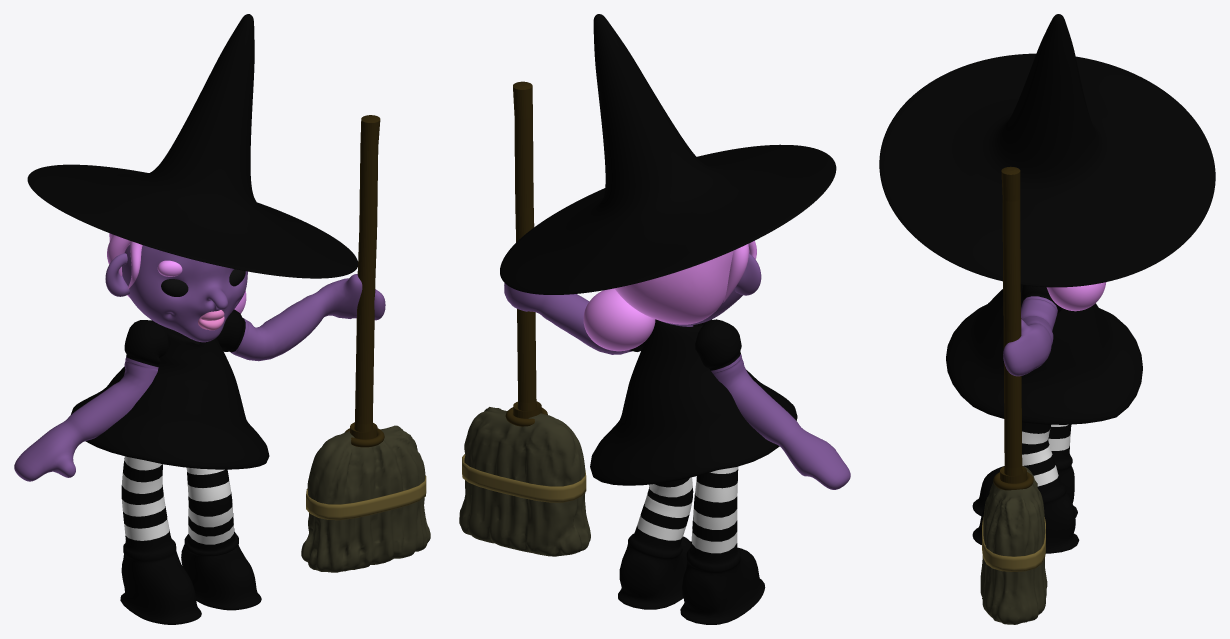
File: witch.glb
The picture shows the model from 3 angles, left to right: view 1: azimuth 30°, elevation 25°; view 2: azimuth 150°, elevation 25°; view 3: azimuth 270°, elevation 25°; orthographic projection. The views are drawn at different scales.
Visible parts, largest first — view 1: HEAD, legs, dress, arms, broom solid bristle, broomstick, broom band; view 2: HEAD, dress, legs, broom solid bristle, arms, broomstick, broom band; view 3: HEAD, dress, broom solid bristle, broomstick, legs, arms, broom band.
Boxes of the visible parts, x1=… form: HEAD: x1=27, y1=14, x2=358, y2=342; legs: x1=120, y1=456, x2=261, y2=624; dress: x1=71, y1=326, x2=269, y2=469; arms: x1=14, y1=274, x2=385, y2=481; broom solid bristle: x1=301, y1=425, x2=430, y2=572; broomstick: x1=344, y1=115, x2=384, y2=447; broom band: x1=306, y1=475, x2=426, y2=520; HEAD: x1=500, y1=14, x2=836, y2=351; dress: x1=590, y1=319, x2=797, y2=485; legs: x1=618, y1=466, x2=765, y2=624; broom solid bristle: x1=459, y1=407, x2=590, y2=556; arms: x1=504, y1=283, x2=850, y2=489; broomstick: x1=505, y1=81, x2=547, y2=426; broom band: x1=462, y1=454, x2=586, y2=502; HEAD: x1=879, y1=14, x2=1215, y2=311; dress: x1=946, y1=285, x2=1142, y2=424; broom solid bristle: x1=980, y1=466, x2=1047, y2=624; broomstick: x1=993, y1=166, x2=1033, y2=490; legs: x1=972, y1=422, x2=1079, y2=553; arms: x1=1003, y1=285, x2=1062, y2=376; broom band: x1=982, y1=517, x2=1045, y2=571.
Bounding box in the file's own units: 6.73 × 9.22 × 5.11.
